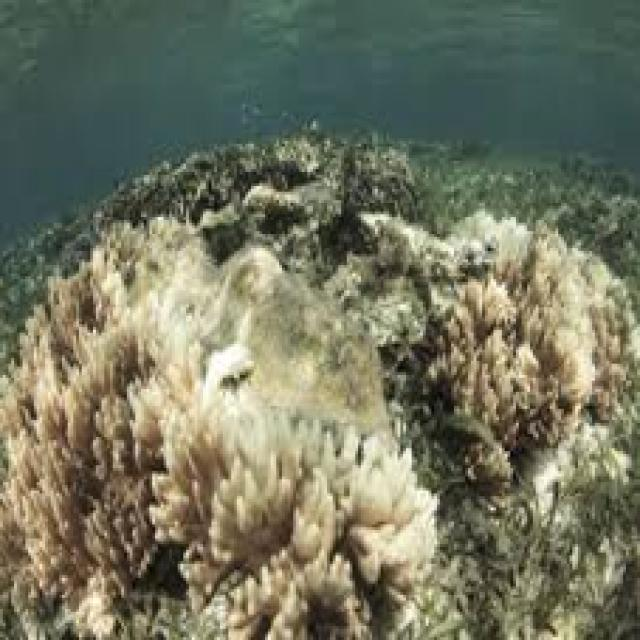Bleached: (1, 218, 435, 638), (430, 212, 593, 455)
